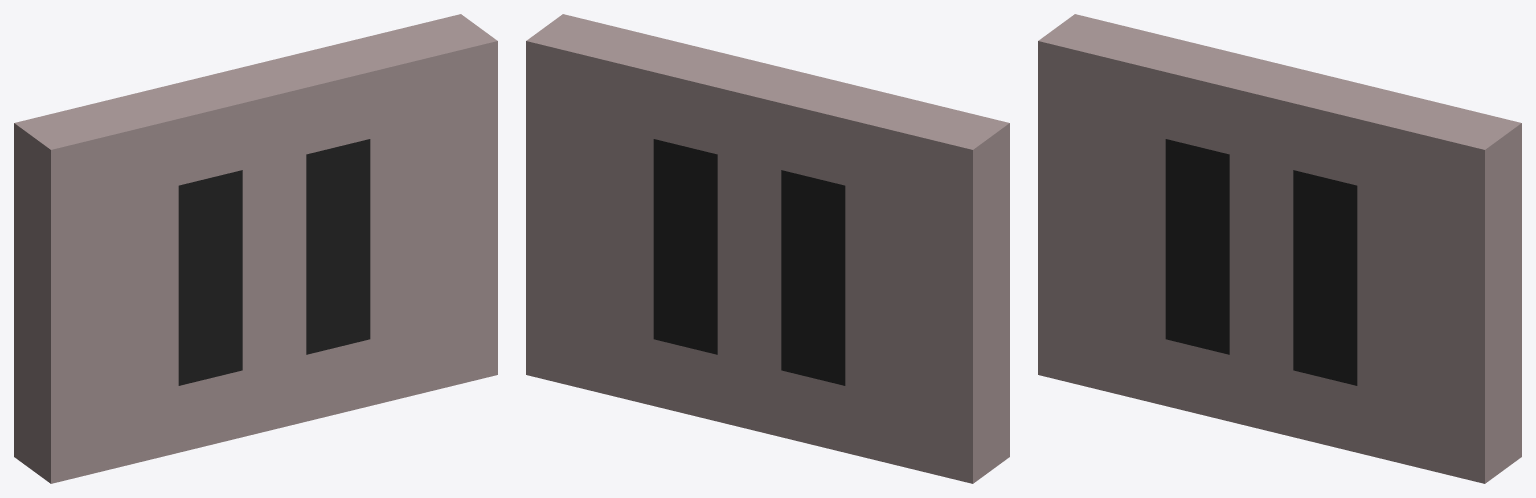
The model's file is Tomacorriente.fbx.
The picture shows the model from 3 angles, left to right: view 1: azimuth 30°, elevation 25°; view 2: azimuth 150°, elevation 25°; view 3: azimuth 330°, elevation 25°; orthographic projection.
Visible parts, largest first — view 1: enchufe; view 2: enchufe; view 3: enchufe.
Part boxes in pixels (box(x1,y1,x2,y2)): enchufe: box(14, 14, 497, 483); enchufe: box(526, 14, 1009, 483); enchufe: box(1038, 14, 1521, 483).
Bounding box in the file's own units: 70 × 50 × 10.
